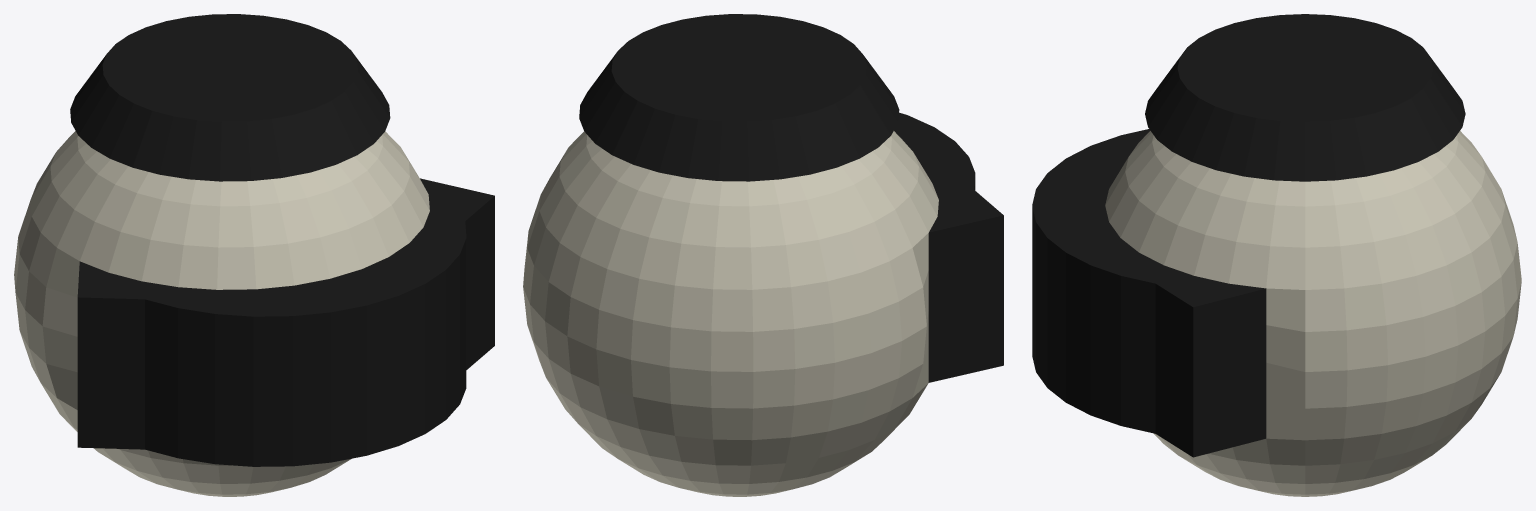
Rendered from UserIcon.fbx.
3 views of the same model, side by side, from view 1: azimuth 30°, elevation 25°; view 2: azimuth 150°, elevation 25°; view 3: azimuth 270°, elevation 25° (orthographic).
Parts seen in each view (by area): view 1: Sphere; view 2: Sphere; view 3: Sphere.
Part boxes in pixels (x1,y1,x2,y2): Sphere: (14,14,494,496); Sphere: (523,14,1003,496); Sphere: (1032,14,1521,496).
Bounding box in the file's own units: 222 × 208 × 226.
